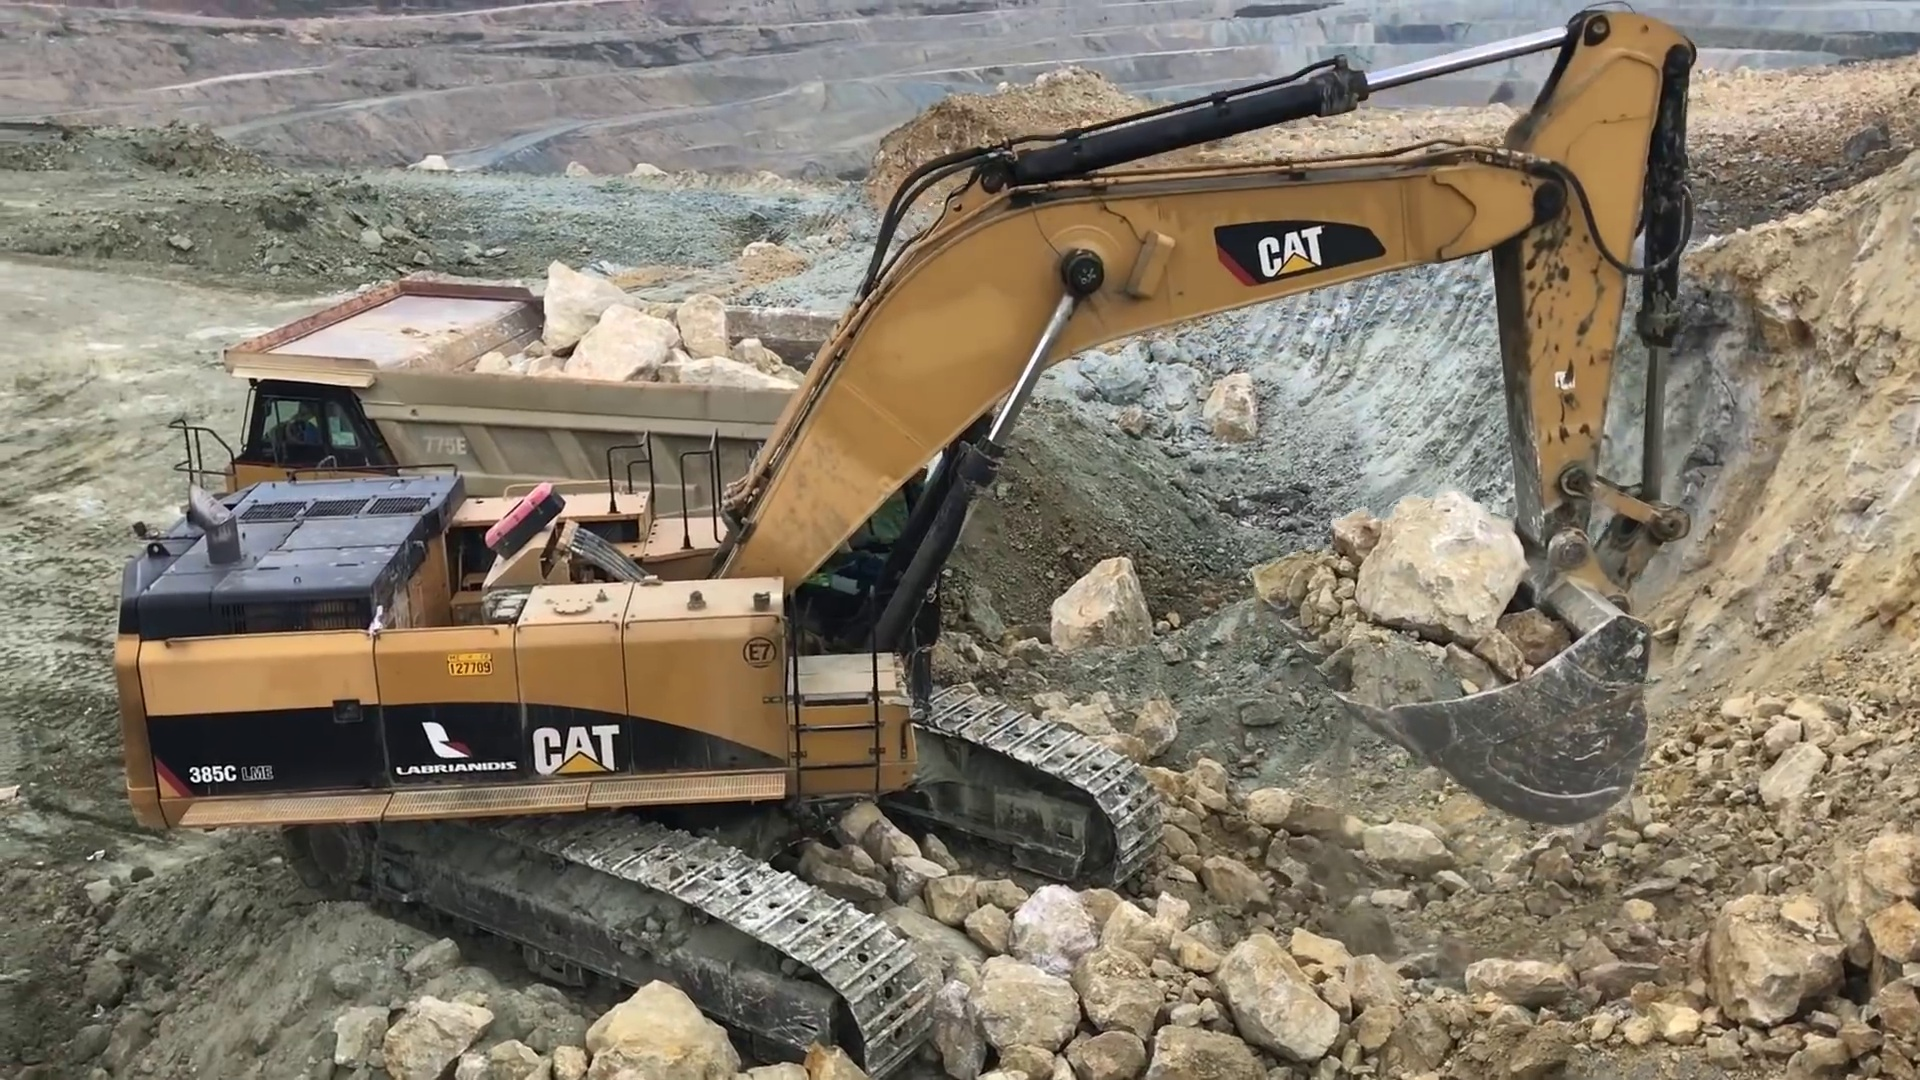dumper: (224, 278, 916, 578)
excavator: (111, 11, 1698, 1040)
